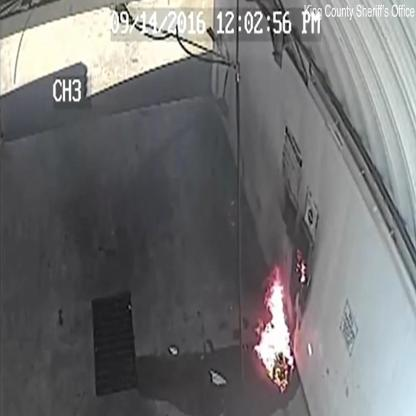fire: (253, 265, 294, 393)
